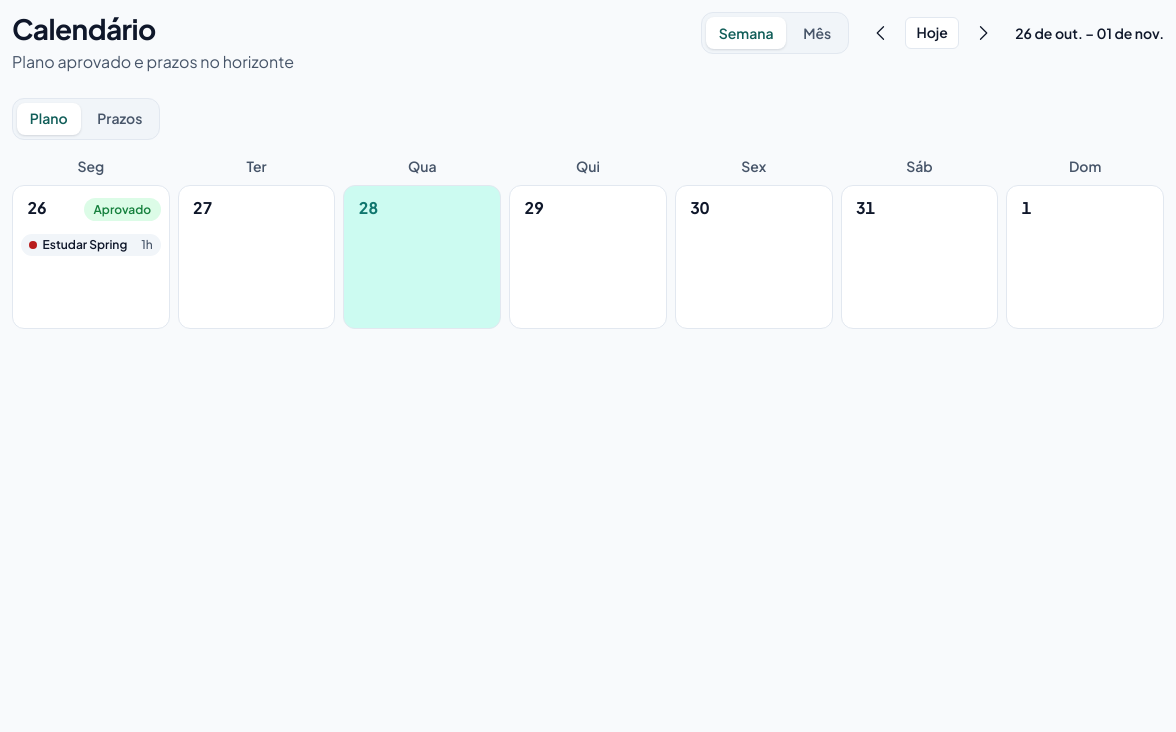
CalendarioPage › T8: lente Prazos mostra tarefas a vencer; clique no dia abre painel interno
Expected: the text "Estudar Spring" is shown, 43,237 -> 136,252
Step 1. Click the radio button labelled "Prazos" → (120, 119), box 84,103 -> 155,135
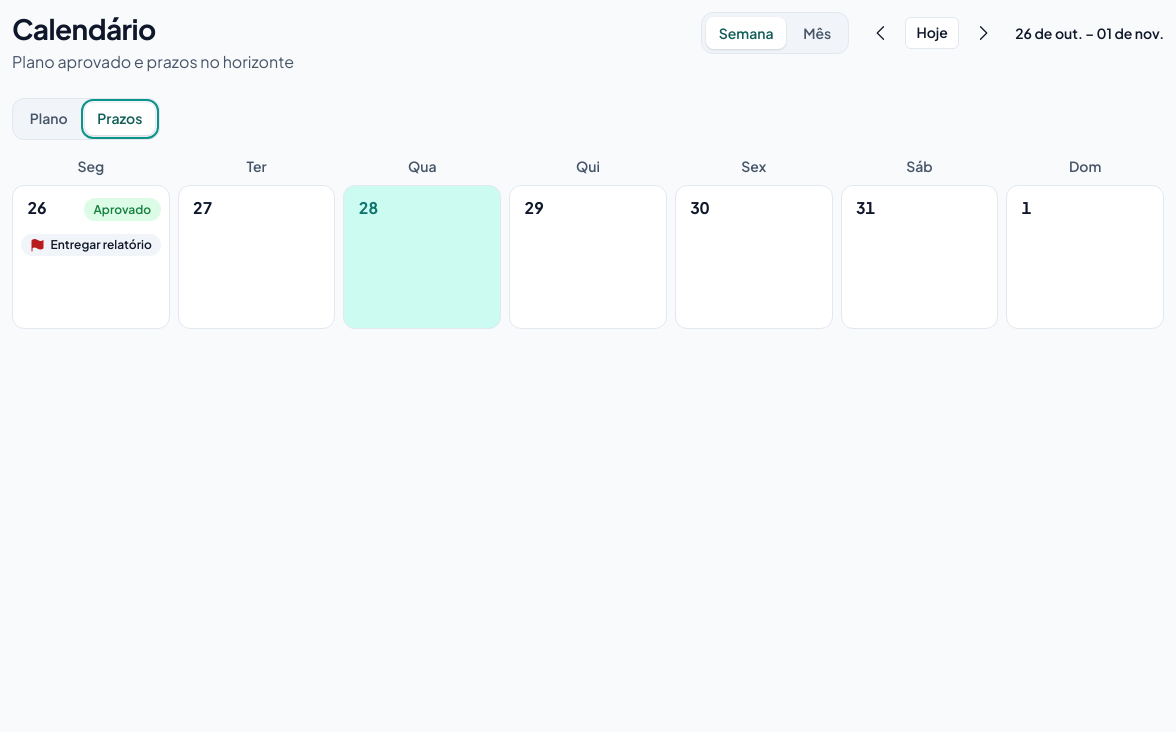
Expected: the text "Entregar relatório" is shown, 51,237 -> 153,253
Expected: the link "Estudar Spring" is gone
Step 2. Click the button "26" → (37, 210), box 21,194 -> 53,226
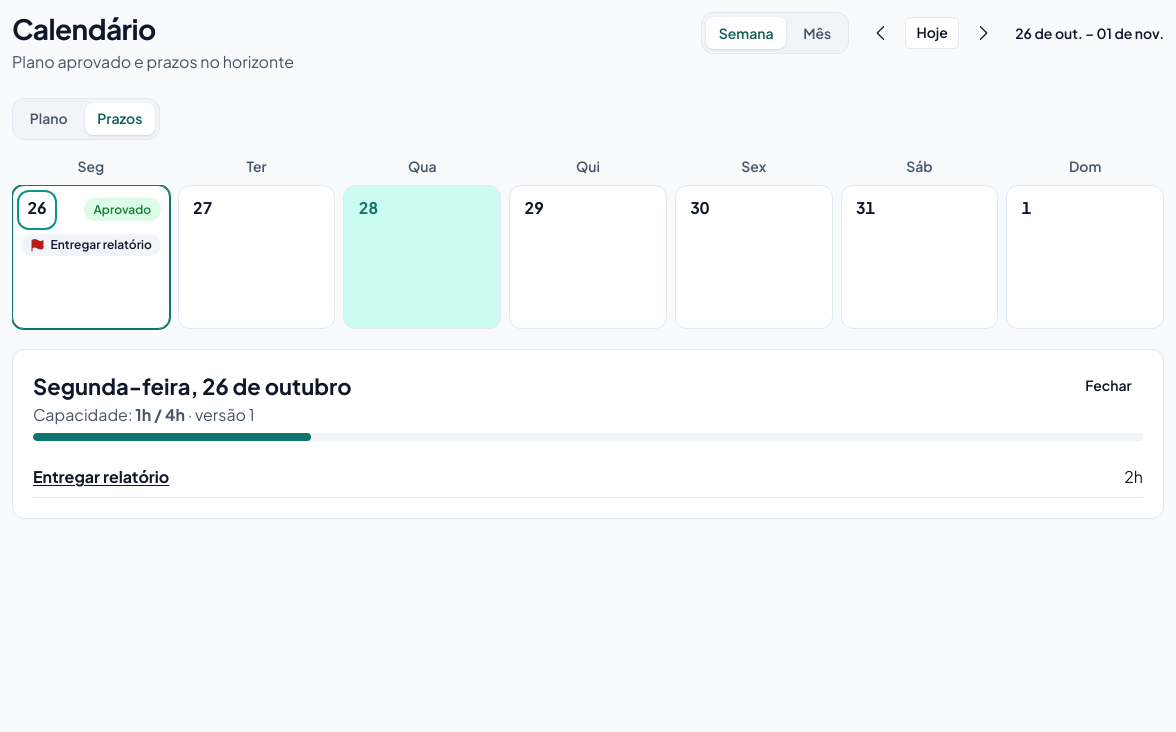
Expected: the text "Capacidade: 1h / 4h · versão 1" is shown, 33,404 -> 255,425
